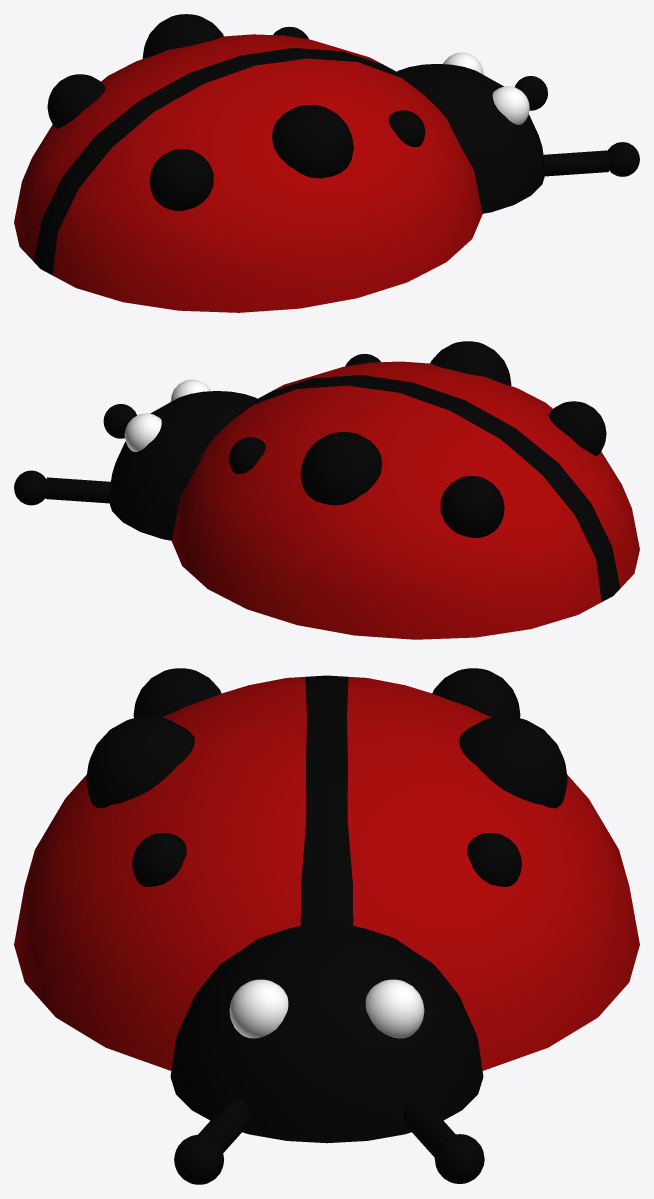
File: ladybug.fbx
3 renders of one model, top to bottom at view 1: azimuth 30°, elevation 25°; view 2: azimuth 150°, elevation 25°; view 3: azimuth 270°, elevation 25°, orthographic. The views are drawn at different scales.
Visible parts, largest first — view 1: body_symmetry, head, dot2, _dot3, dot2_, _dot3_, antenna_r, eye_r, dot1, antenna_2, antenna, eye_l; view 2: body_symmetry, head, dot2_, _dot3_, dot2, _dot3, antenna_l, eye_l, dot1_, antenna, antenna_2, eye_r; view 3: body_symmetry, head, dot2, dot2_, _dot3, _dot3_, eye_l, eye_r, dot1, dot1_, antenna_2, antenna (+2 smaller).
Part boxes in pixels (bbox=[...]): body_symmetry: bbox=[14, 34, 482, 312]; head: bbox=[396, 64, 544, 213]; dot2: bbox=[272, 105, 353, 178]; _dot3: bbox=[149, 149, 213, 210]; dot2_: bbox=[142, 14, 223, 58]; _dot3_: bbox=[47, 74, 105, 128]; antenna_r: bbox=[542, 150, 609, 176]; eye_r: bbox=[492, 86, 529, 124]; dot1: bbox=[388, 110, 425, 146]; antenna_2: bbox=[607, 142, 639, 176]; antenna: bbox=[515, 76, 547, 110]; eye_l: bbox=[443, 52, 483, 74]; body_symmetry: bbox=[171, 361, 639, 639]; head: bbox=[109, 391, 257, 540]; dot2_: bbox=[300, 432, 382, 505]; _dot3_: bbox=[440, 476, 504, 537]; dot2: bbox=[430, 341, 511, 385]; _dot3: bbox=[548, 401, 606, 455]; antenna_l: bbox=[45, 477, 111, 503]; eye_l: bbox=[124, 413, 161, 451]; dot1_: bbox=[229, 437, 265, 474]; antenna: bbox=[14, 470, 46, 505]; antenna_2: bbox=[103, 404, 136, 438]; eye_r: bbox=[170, 379, 211, 401]; body_symmetry: bbox=[14, 675, 639, 1070]; head: bbox=[170, 923, 483, 1143]; dot2: bbox=[86, 716, 194, 808]; dot2_: bbox=[459, 716, 567, 808]; _dot3: bbox=[133, 668, 221, 717]; _dot3_: bbox=[432, 668, 520, 717]; eye_l: bbox=[365, 979, 424, 1038]; eye_r: bbox=[229, 979, 288, 1038]; dot1: bbox=[132, 833, 186, 886]; dot1_: bbox=[467, 833, 521, 886]; antenna_2: bbox=[174, 1135, 223, 1184]; antenna: bbox=[434, 1134, 484, 1183].
Bounding box in the file's own units: 293 × 83.78 × 200.
